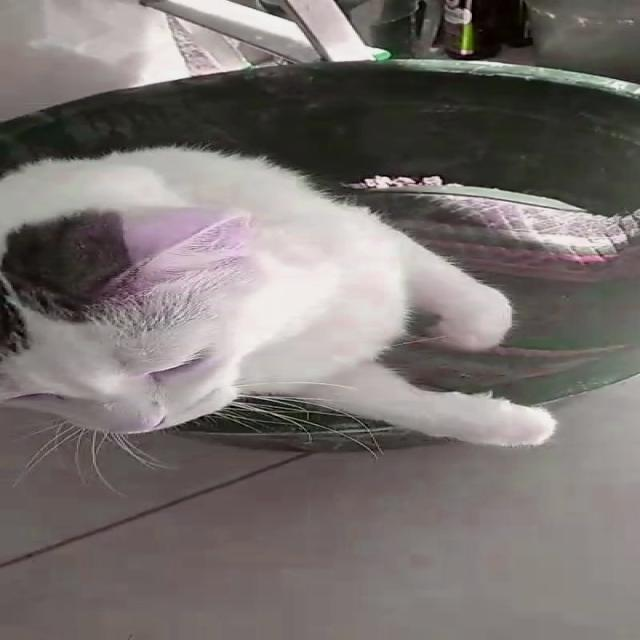Simba: (0, 128, 546, 464)
